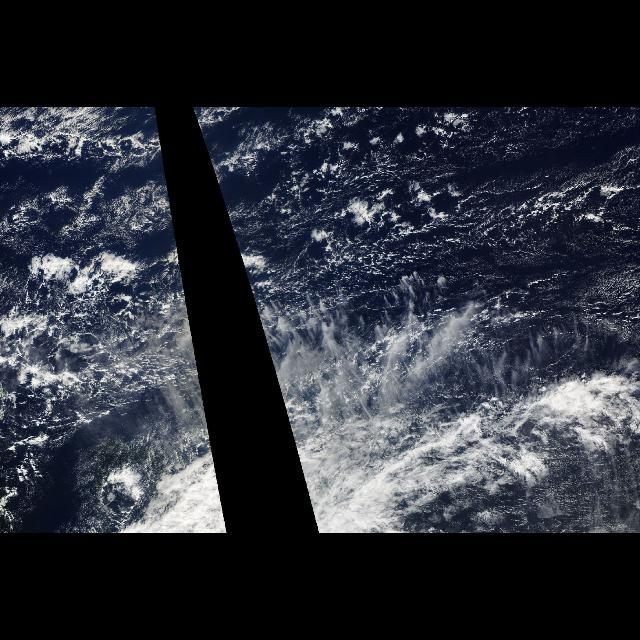Gravel: (281, 137, 615, 276), (3, 241, 206, 424), (1, 108, 168, 178)
Sugar: (0, 176, 180, 256), (215, 176, 247, 256)
